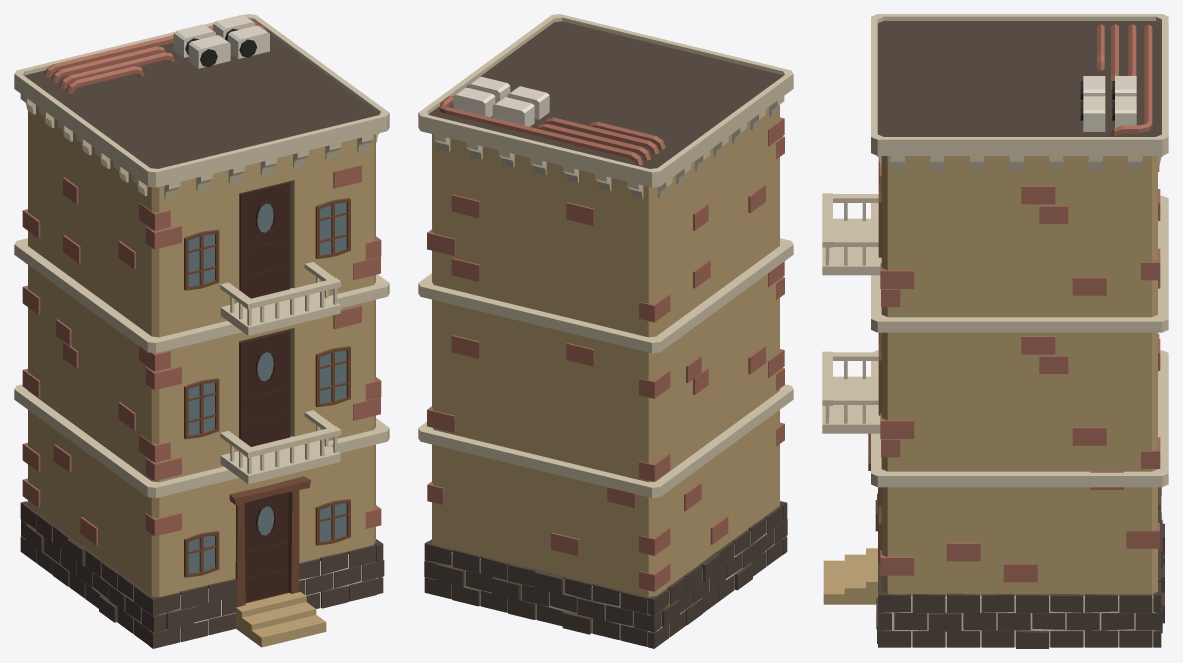
The model's file is cairo-residence-quaternius.glb.
The picture shows the model from 3 angles, left to right: view 1: azimuth 30°, elevation 25°; view 2: azimuth 150°, elevation 25°; view 3: azimuth 270°, elevation 25°; orthographic projection. The views are drawn at different scales.
Parts seen in each view (by area): view 1: 3Story_Balcony_Mat_Cube.026; view 2: 3Story_Balcony_Mat_Cube.026; view 3: 3Story_Balcony_Mat_Cube.026.
Part boxes in pixels (bbox=[...]): 3Story_Balcony_Mat_Cube.026: bbox=[14, 14, 389, 648]; 3Story_Balcony_Mat_Cube.026: bbox=[418, 14, 793, 648]; 3Story_Balcony_Mat_Cube.026: bbox=[822, 14, 1168, 648].
Bounding box in the file's own units: 2.16 × 4.21 × 2.51.
